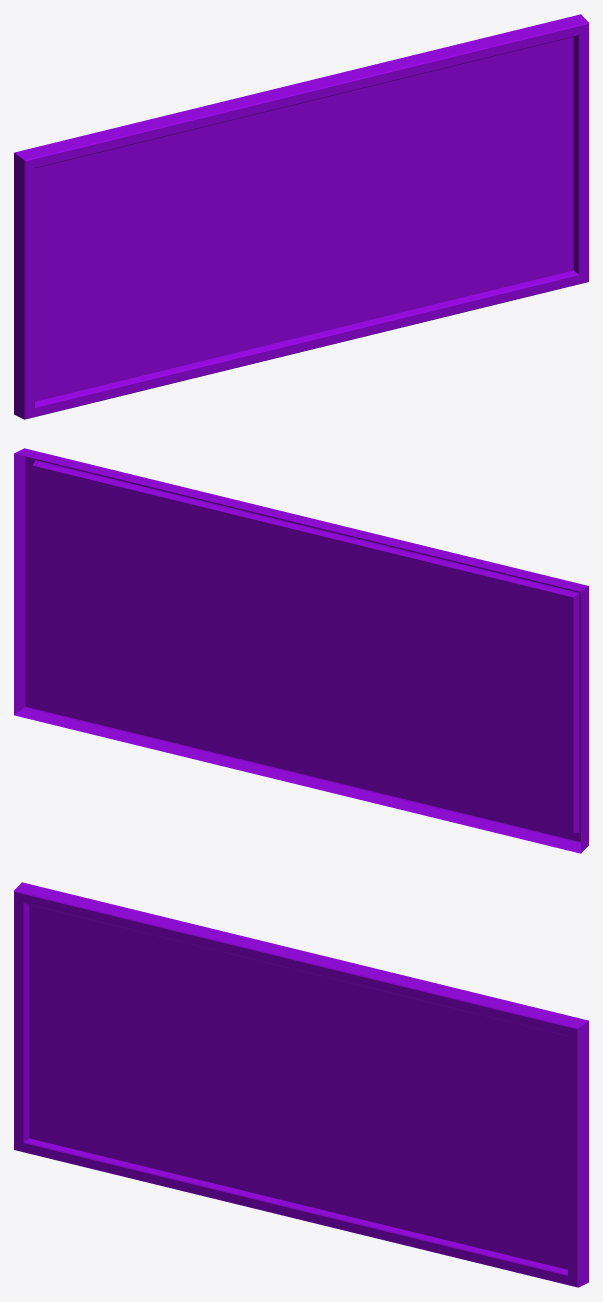
The model's file is Mesh_Frame.fbx.
3 views of the same model, one above another, from view 1: azimuth 30°, elevation 25°; view 2: azimuth 150°, elevation 25°; view 3: azimuth 330°, elevation 25° (orthographic).
Visible parts, largest first — view 1: cadre_low; view 2: cadre_low; view 3: cadre_low.
Part boxes in pixels (bbox=[...]): cadre_low: bbox=[14, 14, 588, 419]; cadre_low: bbox=[14, 448, 588, 853]; cadre_low: bbox=[14, 882, 588, 1287].
Size of the model in its own units: 160 by 70.71 by 4.74.
